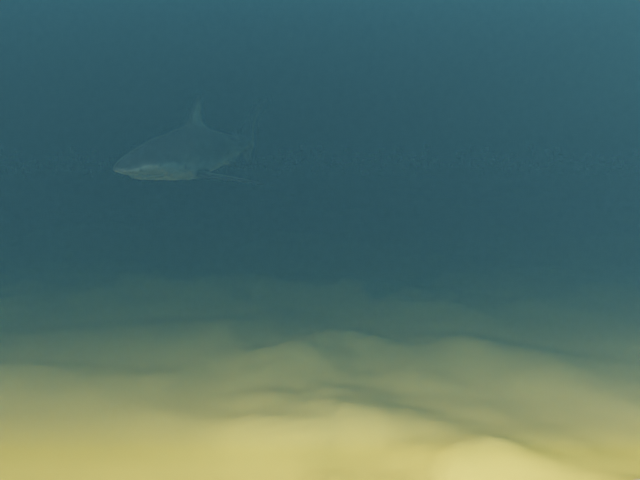Carribean Shark.001: (113, 95, 268, 184)
